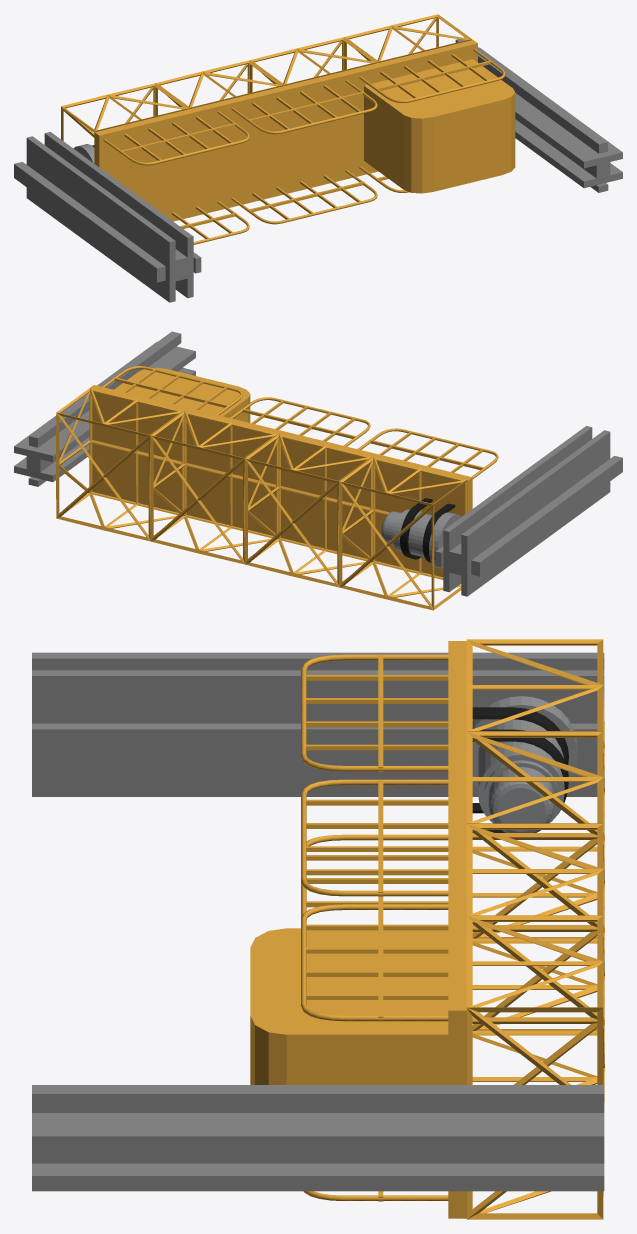
File: longspan_ev.glb
3 renders of one model, top to bottom at view 1: azimuth 30°, elevation 25°; view 2: azimuth 150°, elevation 25°; view 3: azimuth 270°, elevation 25°, orthographic. The views are drawn at different scales.
Parts seen in each view (by area): view 1: longspan_ev, longspan_ev_column; view 2: longspan_ev, longspan_ev_column; view 3: longspan_ev_column, longspan_ev.
Part boxes in pixels (x1,y1,x2,y2): longspan_ev: (61,14,515,244); longspan_ev_column: (14,37,622,302); longspan_ev: (56,366,498,610); longspan_ev_column: (14,331,622,596); longspan_ev_column: (32,652,604,1191); longspan_ev: (250,639,604,1219).
Size of the model in its own units: 5.64 by 1.23 by 3.
